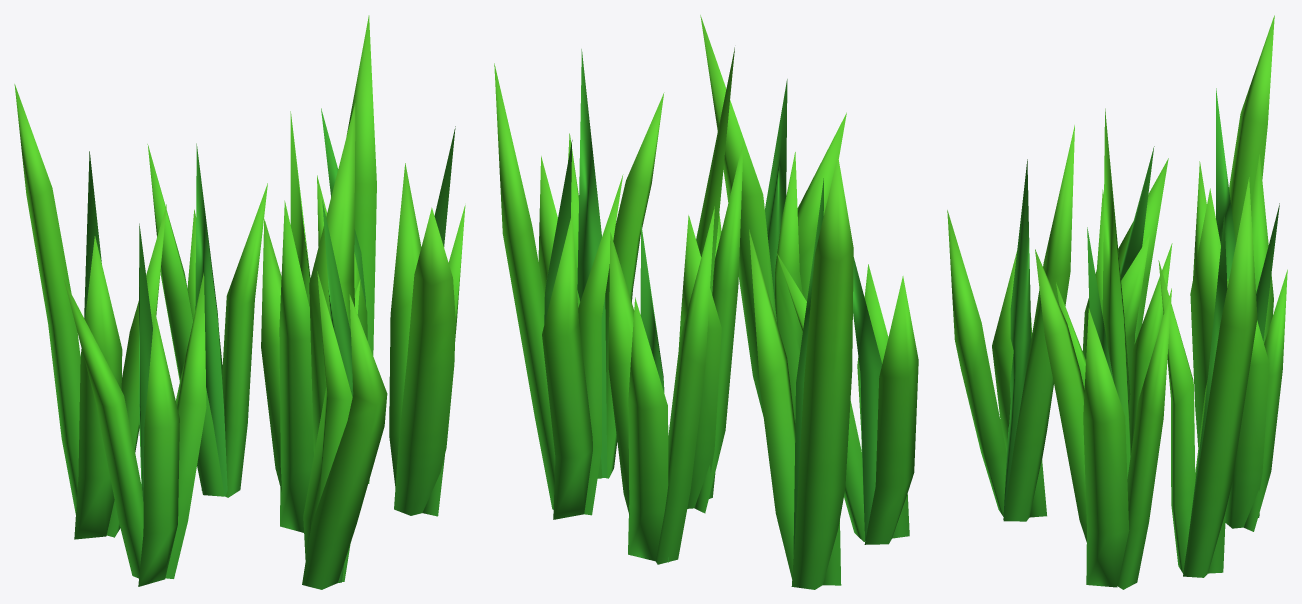
The model's file is Plant_2_B_1.fbx.
The picture shows the model from 3 angles, left to right: view 1: azimuth 30°, elevation 25°; view 2: azimuth 150°, elevation 25°; view 3: azimuth 270°, elevation 25°; orthographic projection. The views are drawn at different scales.
Parts seen in each view (by area): view 1: Plant_2_B_1; view 2: Plant_2_B_1; view 3: Plant_2_B_1.
Part boxes in pixels (x1,y1,x2,y2): Plant_2_B_1: [14, 15, 465, 589]; Plant_2_B_1: [494, 15, 918, 589]; Plant_2_B_1: [947, 15, 1287, 589].
Bounding box in the file's own units: 16.01 × 18.74 × 13.77.
